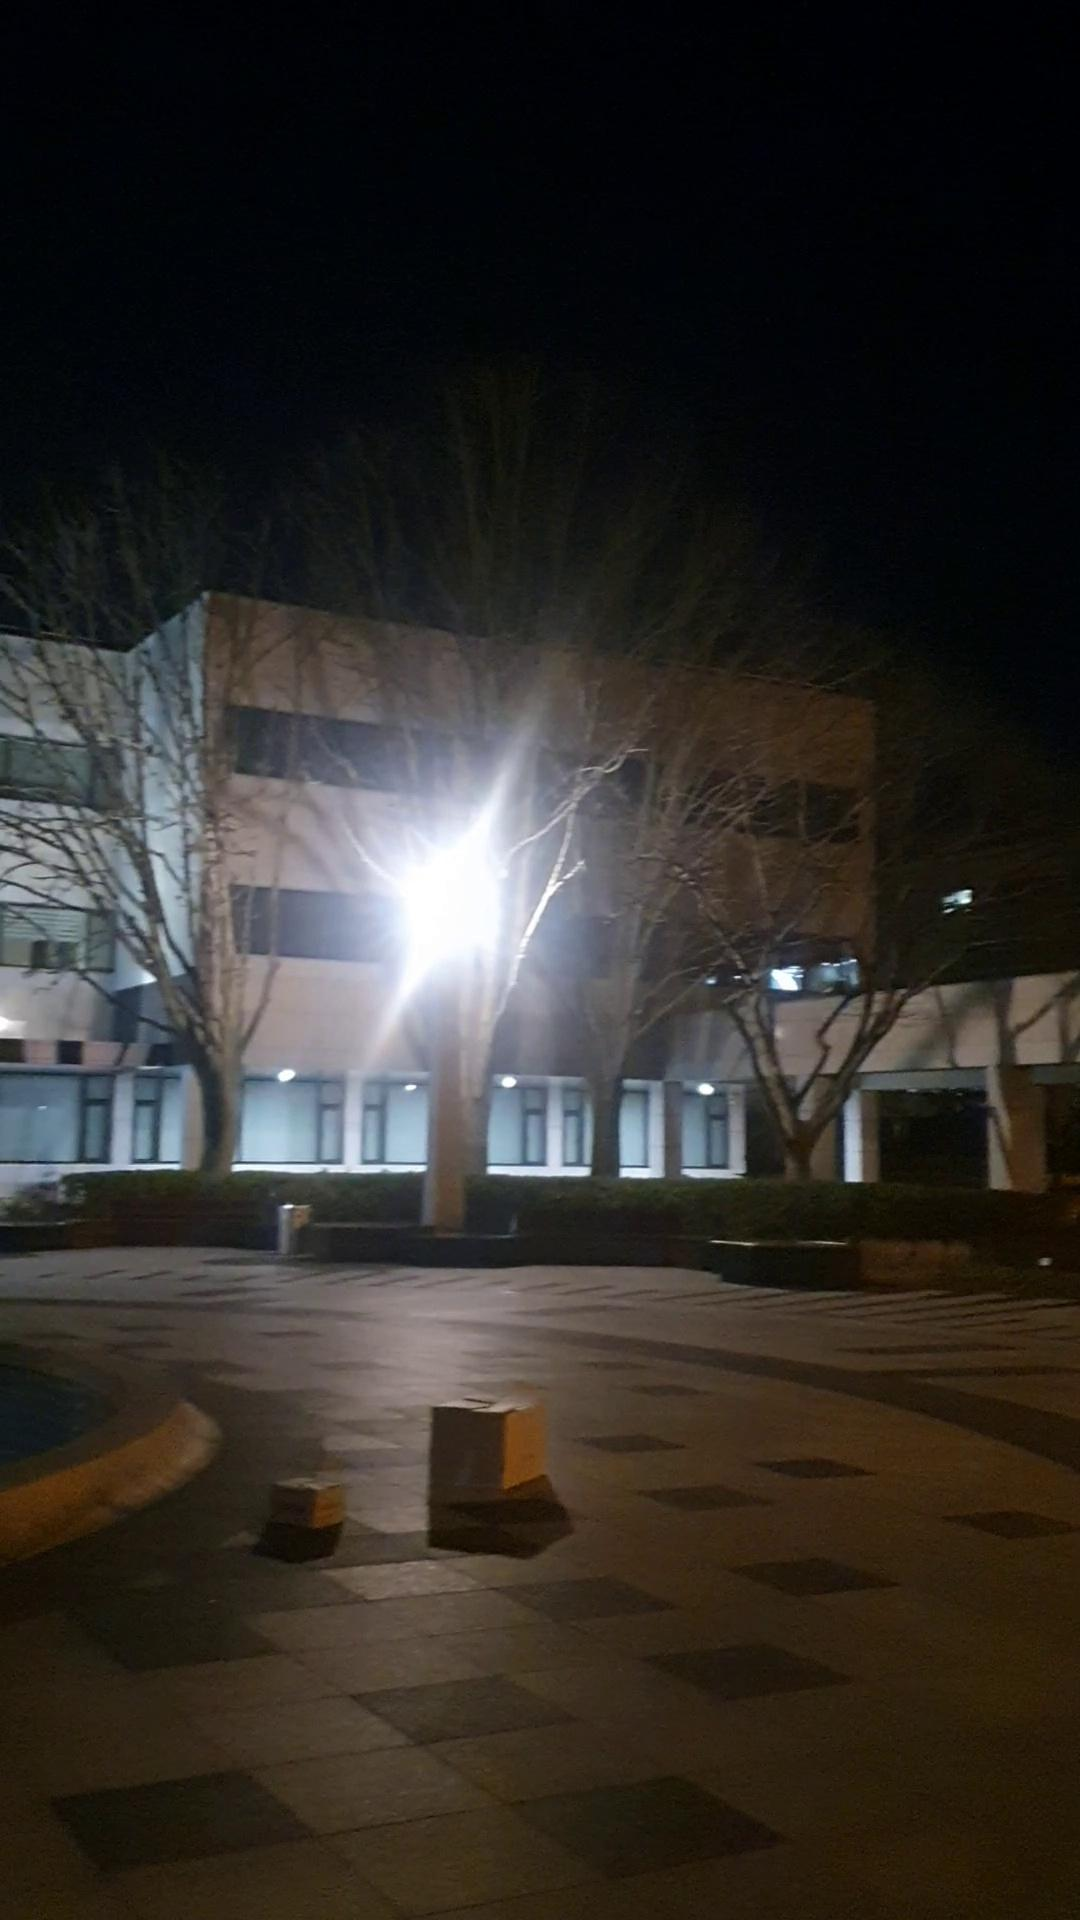Box: (426, 1383, 545, 1513), (268, 1473, 342, 1530)
